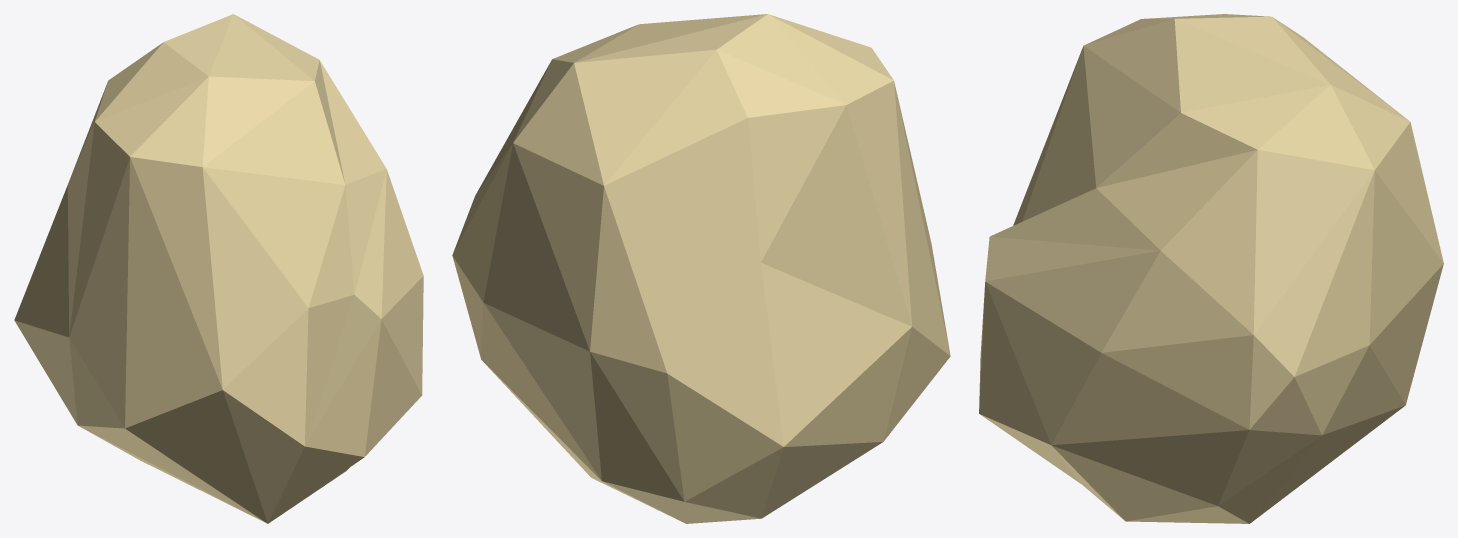
Rendered from Rock (75).fbx.
The picture shows the model from 3 angles, left to right: view 1: azimuth 30°, elevation 25°; view 2: azimuth 150°, elevation 25°; view 3: azimuth 270°, elevation 25°; orthographic projection. The views are drawn at different scales.
Parts seen in each view (by area): view 1: Asteroid74; view 2: Asteroid74; view 3: Asteroid74.
Boxes of the visible parts, left/top/right/bottom form: Asteroid74: left=14, top=14, right=423, bottom=523; Asteroid74: left=452, top=14, right=950, bottom=523; Asteroid74: left=979, top=14, right=1443, bottom=523.
Size of the model in its own units: 64.52 by 74.17 by 67.1.
